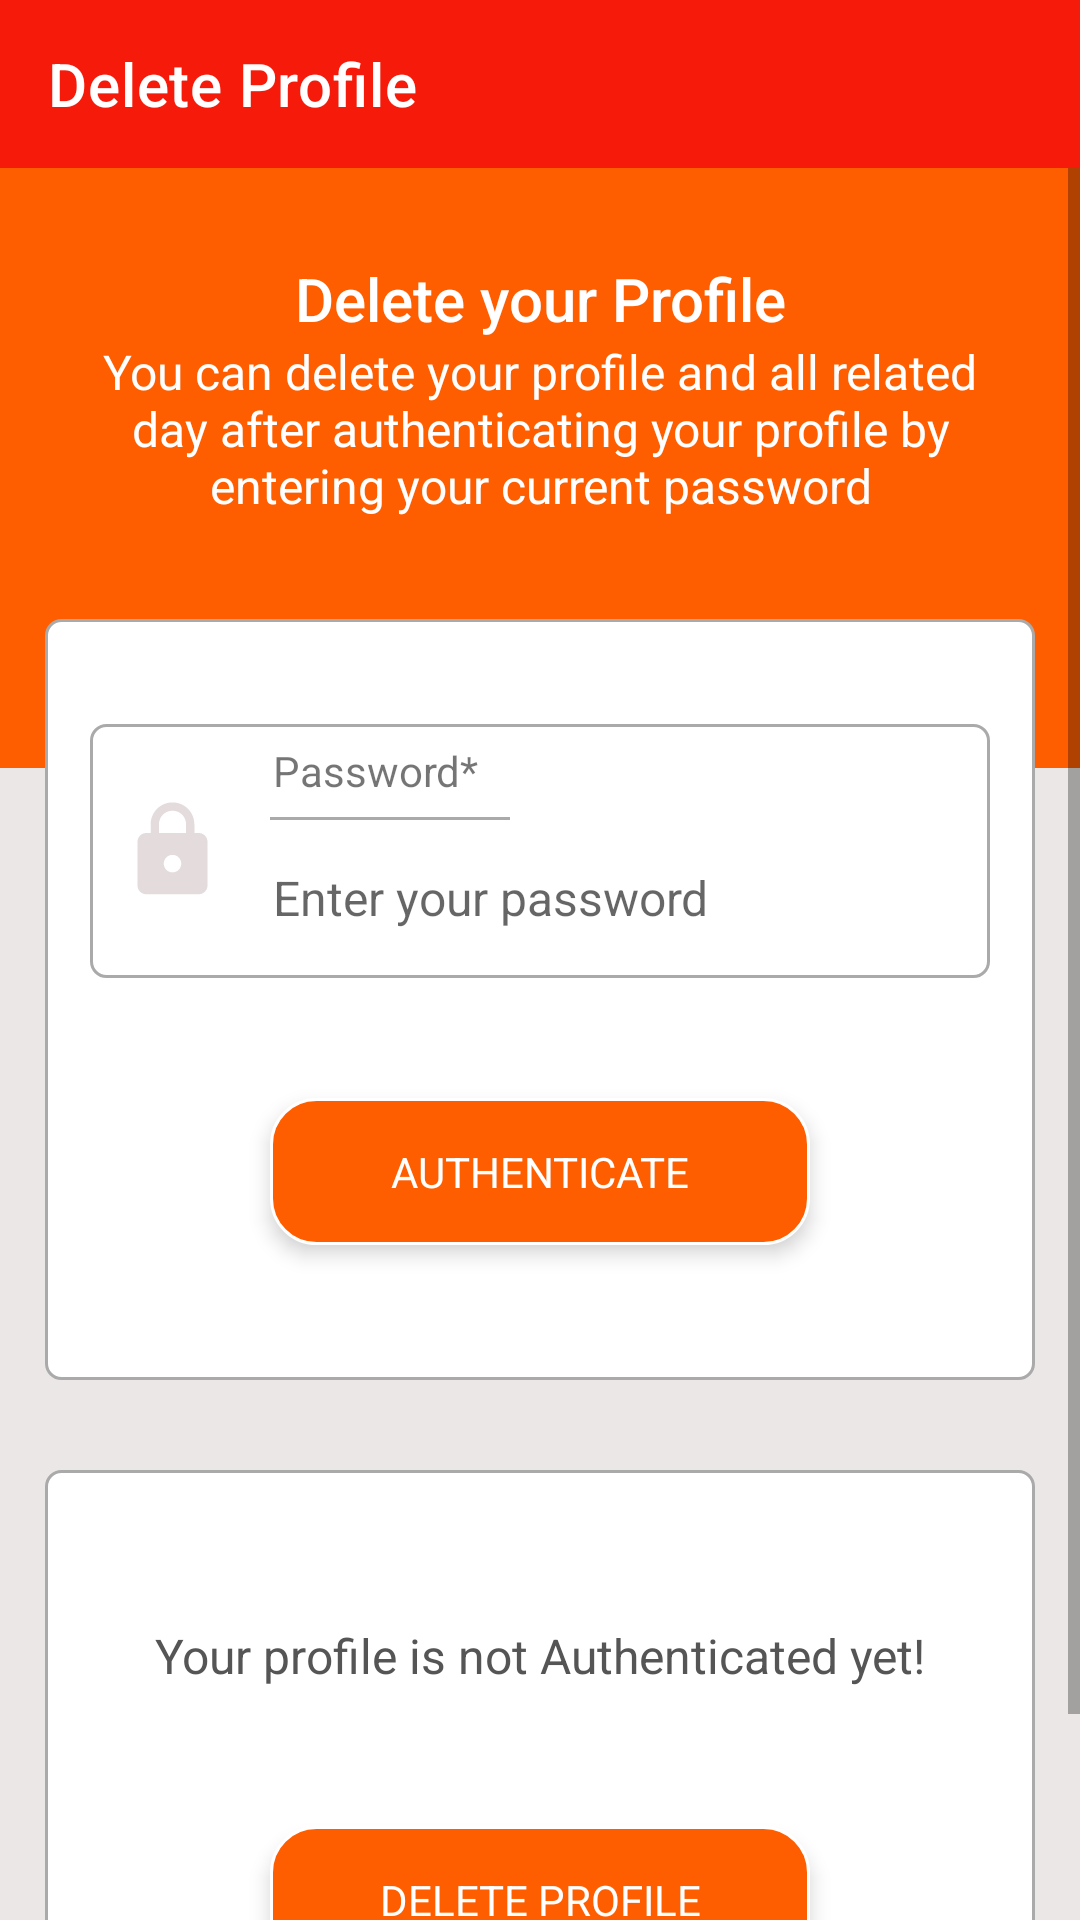

Point at icon controls on the screen. Image size 1080*1920, points as [x,y].
lock: [172,848]
